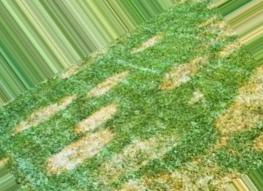patch: (171, 170, 223, 186), (85, 119, 105, 147), (58, 144, 86, 163), (223, 111, 253, 128), (246, 83, 263, 108), (168, 66, 188, 86), (32, 112, 50, 119), (93, 84, 113, 90)
